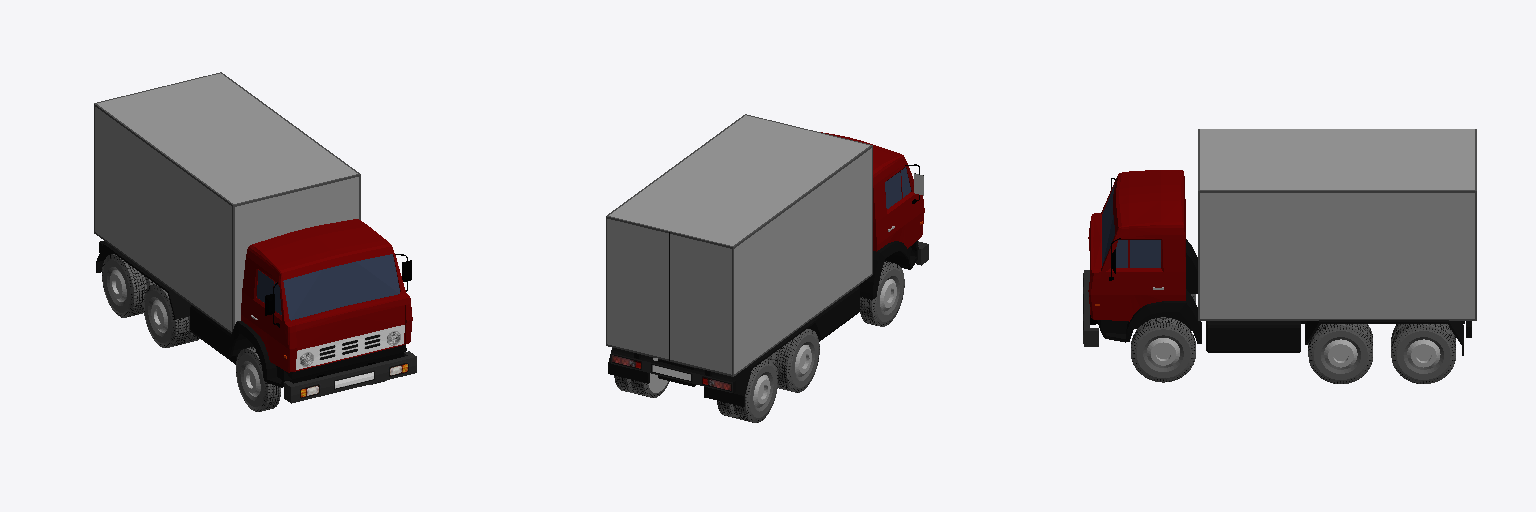
3 views of the same model, side by side, from view 1: azimuth 30°, elevation 25°; view 2: azimuth 150°, elevation 25°; view 3: azimuth 270°, elevation 25° (orthographic).
Visible parts, largest first — view 1: Cube.001, truck_Plane, truck-textured-parts_Plane.007, glass_Plane.002, truck.001_Plane.001; view 2: Cube.001, truck_Plane, truck-textured-parts_Plane.007, truck.001_Plane.001, glass_Plane.002; view 3: Cube.001, truck_Plane, truck-textured-parts_Plane.007, truck.001_Plane.001, glass_Plane.002.
Boxes of the visible parts, <box> form: Cube.001: <box>94,72,360,333</box>; truck_Plane: <box>96,219,412,396</box>; truck-textured-parts_Plane.007: <box>102,254,416,411</box>; glass_Plane.002: <box>257,254,399,320</box>; truck.001_Plane.001: <box>190,305,237,364</box>; Cube.001: <box>606,114,872,376</box>; truck_Plane: <box>608,132,924,407</box>; truck-textured-parts_Plane.007: <box>611,241,928,422</box>; truck.001_Plane.001: <box>813,286,859,341</box>; glass_Plane.002: <box>885,167,910,208</box>; Cube.001: <box>1198,129,1476,320</box>; truck_Plane: <box>1088,170,1464,369</box>; truck-textured-parts_Plane.007: <box>1083,270,1455,383</box>; truck.001_Plane.001: <box>1206,321,1300,352</box>; glass_Plane.002: <box>1102,185,1160,267</box>.
Size of the model in its own units: 272 by 340 by 630.
11 materials, 1 textured.